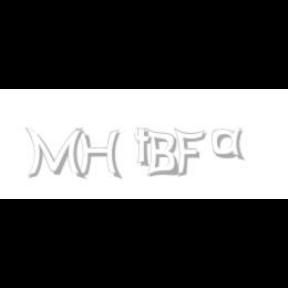B: (145, 128, 179, 178)
F: (173, 128, 205, 178)
H: (76, 128, 122, 180)
M: (24, 128, 84, 180)
a: (212, 128, 249, 160)
t: (134, 128, 156, 168)
